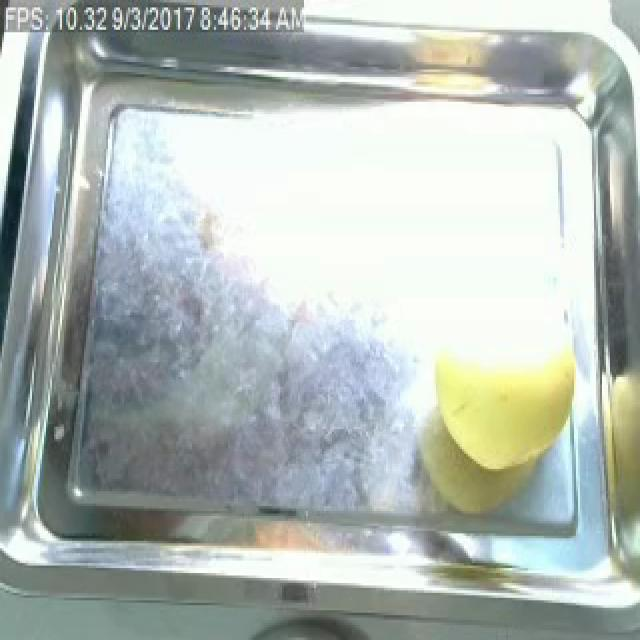Fruit: (418, 325, 594, 479)
